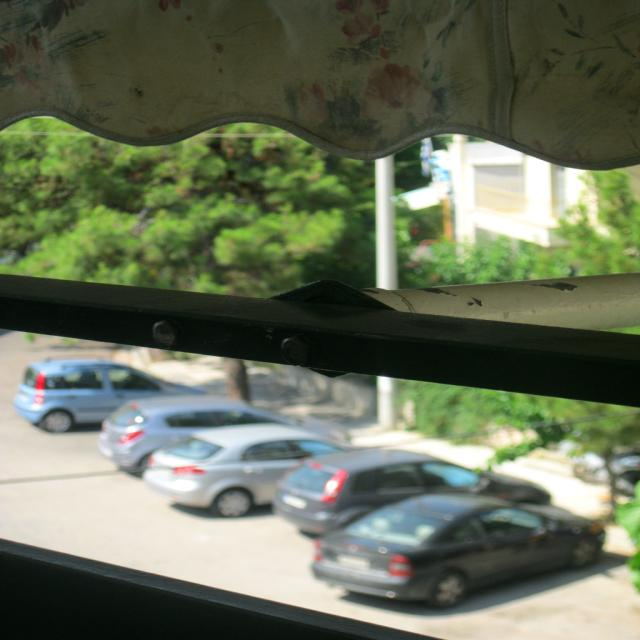car: (308, 492, 620, 608)
